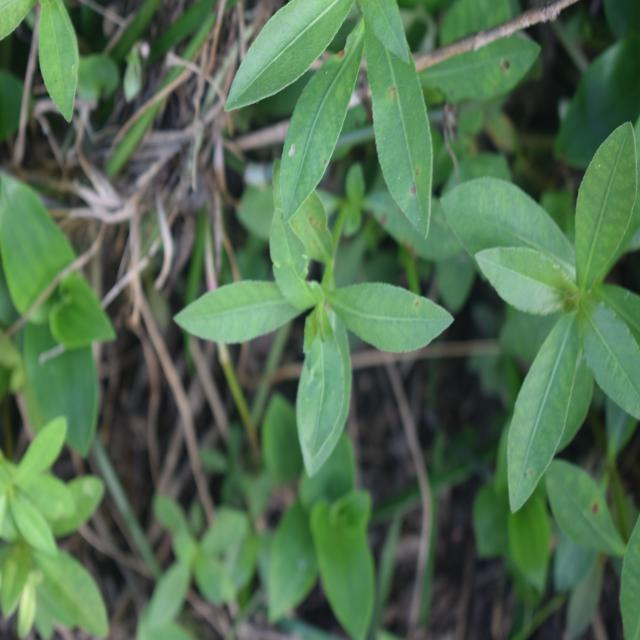Alligatorweed: (438, 118, 640, 502), (201, 175, 422, 471)
